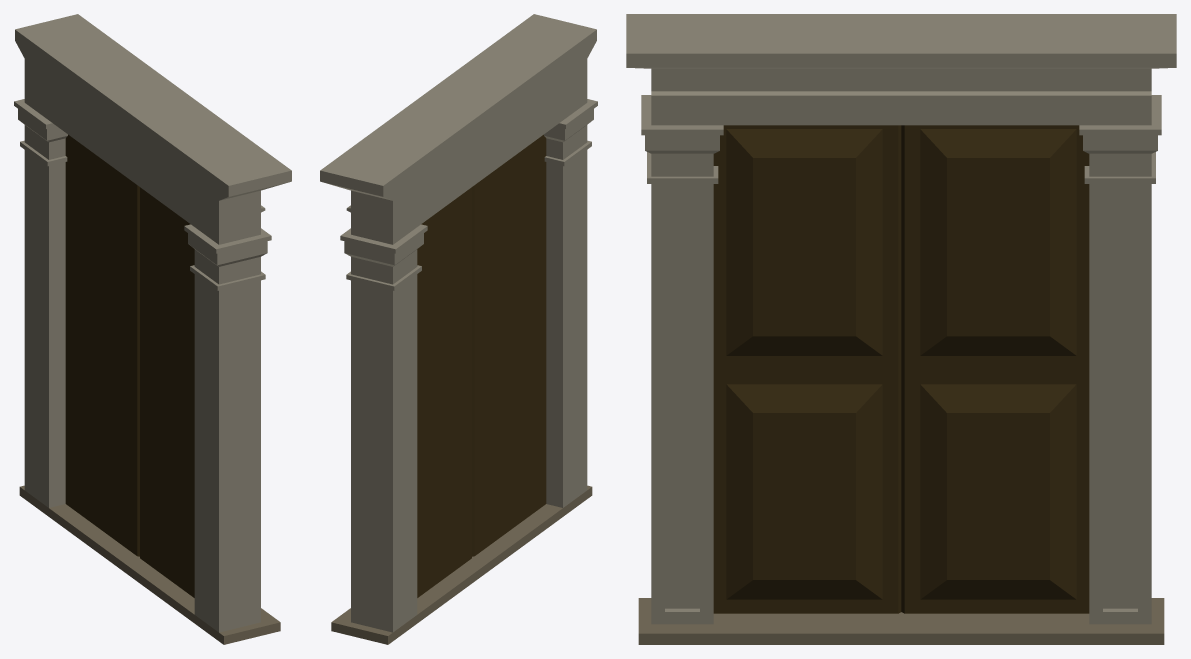
The model's file is Door_1.fbx.
3 views of the same model, side by side, from view 1: azimuth 30°, elevation 25°; view 2: azimuth 150°, elevation 25°; view 3: azimuth 270°, elevation 25° (orthographic). The views are drawn at different scales.
Visible parts, largest first — view 1: Door_1; view 2: Door_1; view 3: Door_1.
Part boxes in pixels (<box>): Door_1: <box>14,14,291,644</box>; Door_1: <box>320,14,597,644</box>; Door_1: <box>626,14,1176,644</box>.
Size of the model in its own units: 33.15 by 210 by 176.
